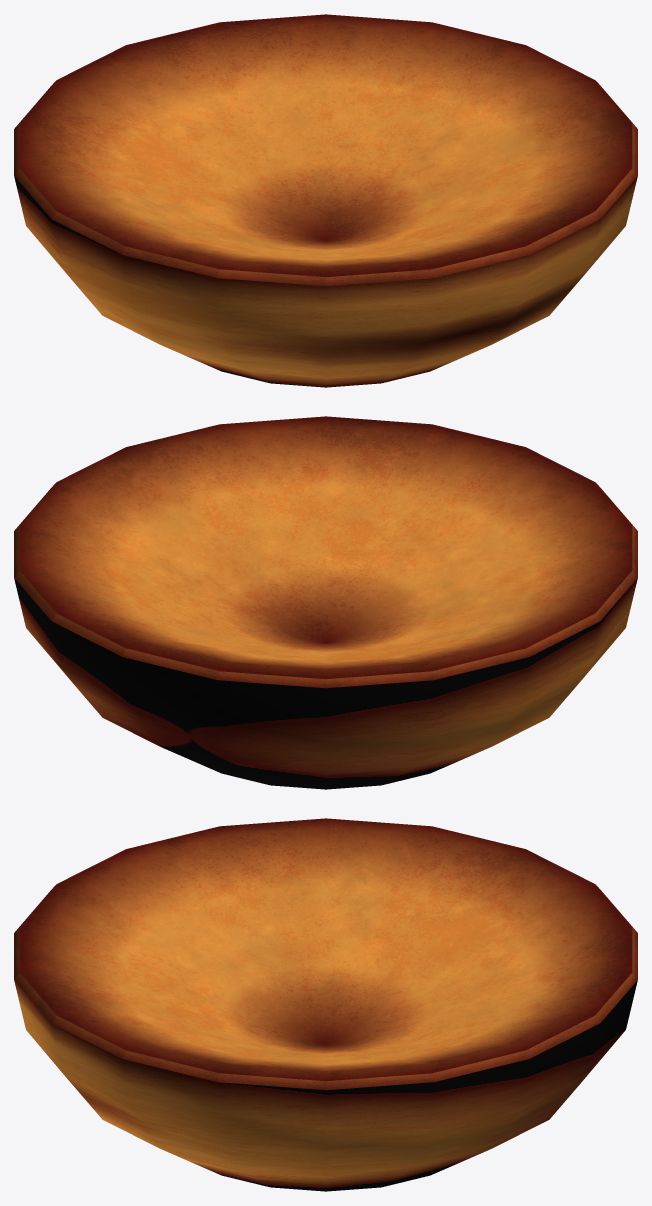
The model's file is torch.FBX.
3 views of the same model, one above another, from view 1: azimuth 30°, elevation 25°; view 2: azimuth 150°, elevation 25°; view 3: azimuth 270°, elevation 25° (orthographic).
Visible parts, largest first — view 1: Cylinder001; view 2: Cylinder001; view 3: Cylinder001.
Boxes of the visible parts, x1,y1,x2,y2 form: Cylinder001: (14, 14, 637, 387); Cylinder001: (14, 416, 637, 789); Cylinder001: (14, 818, 637, 1191).
Bounding box in the file's own units: 0.2528 × 0.0762 × 0.2489.
